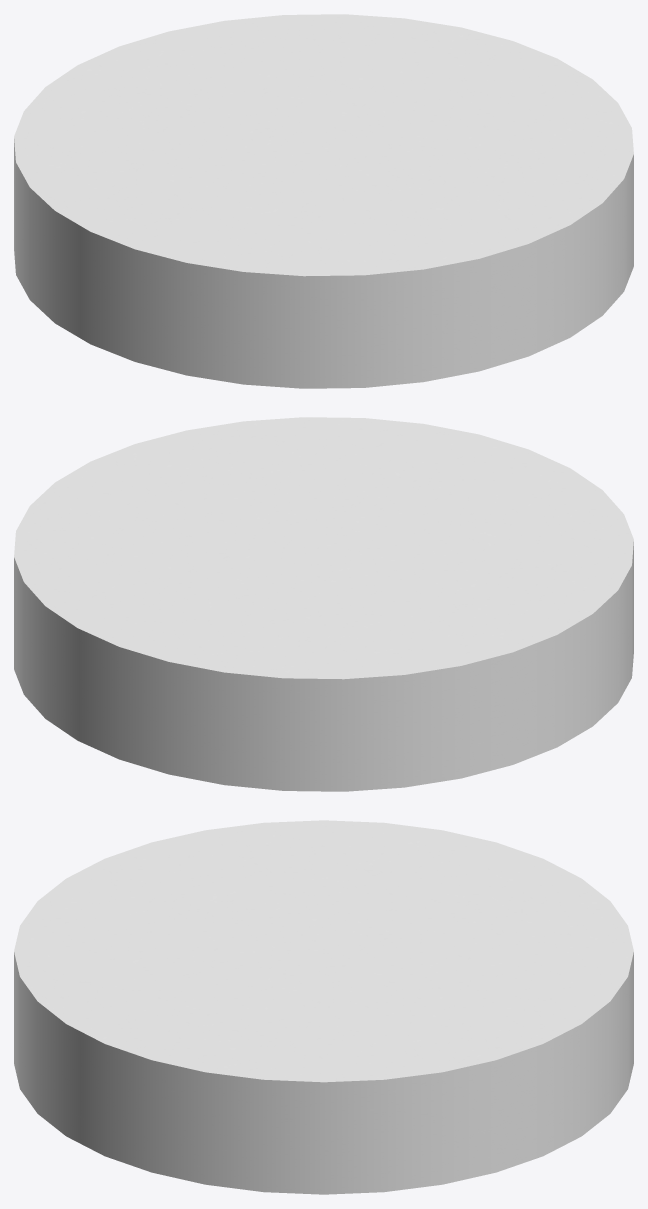
Rendered from whiteStone.glb.
3 renders of one model, top to bottom at view 1: azimuth 30°, elevation 25°; view 2: azimuth 150°, elevation 25°; view 3: azimuth 270°, elevation 25°, orthographic.
Visible parts, largest first — view 1: 円柱; view 2: 円柱; view 3: 円柱.
Boxes of the visible parts, box(x1,y1,x2,y2) form: 円柱: box(14, 14, 633, 388); 円柱: box(14, 417, 633, 791); 円柱: box(14, 820, 633, 1194).
Size of the model in its own units: 2 by 0.4 by 2.
Materials: 1 (1 with a texture image).
